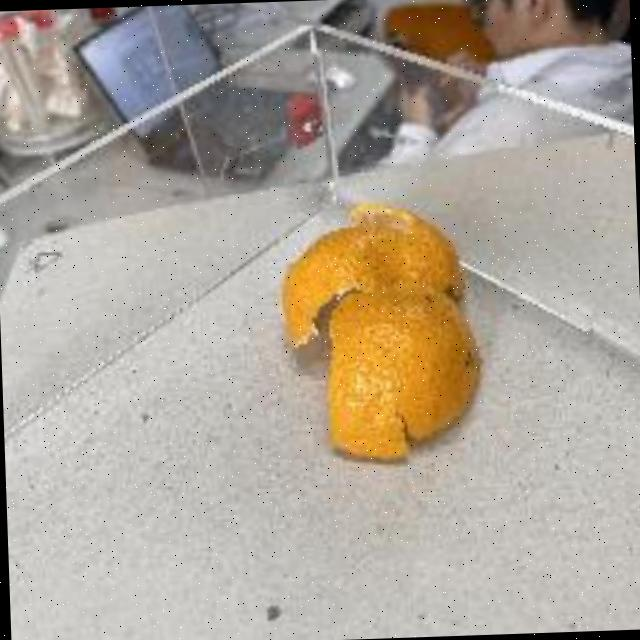orange-peel: (272, 197, 488, 466)
